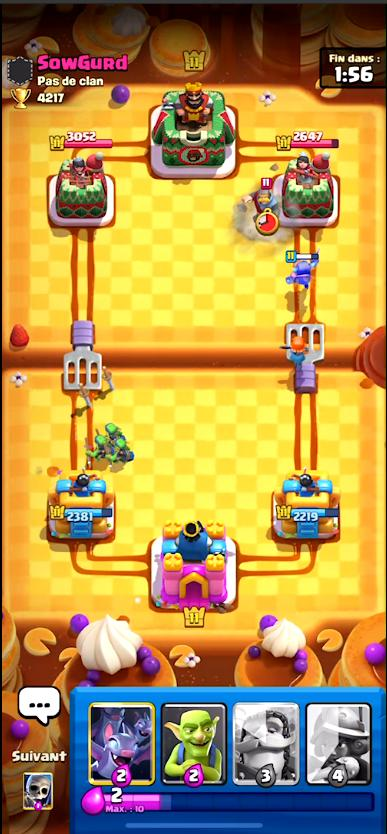chevalier: (246, 180, 281, 214)
gobelin_lances: (87, 427, 110, 459), (112, 435, 133, 463), (103, 420, 122, 438)
mini_PEKKA: (285, 248, 319, 285)
valkyrie: (285, 334, 307, 365)
